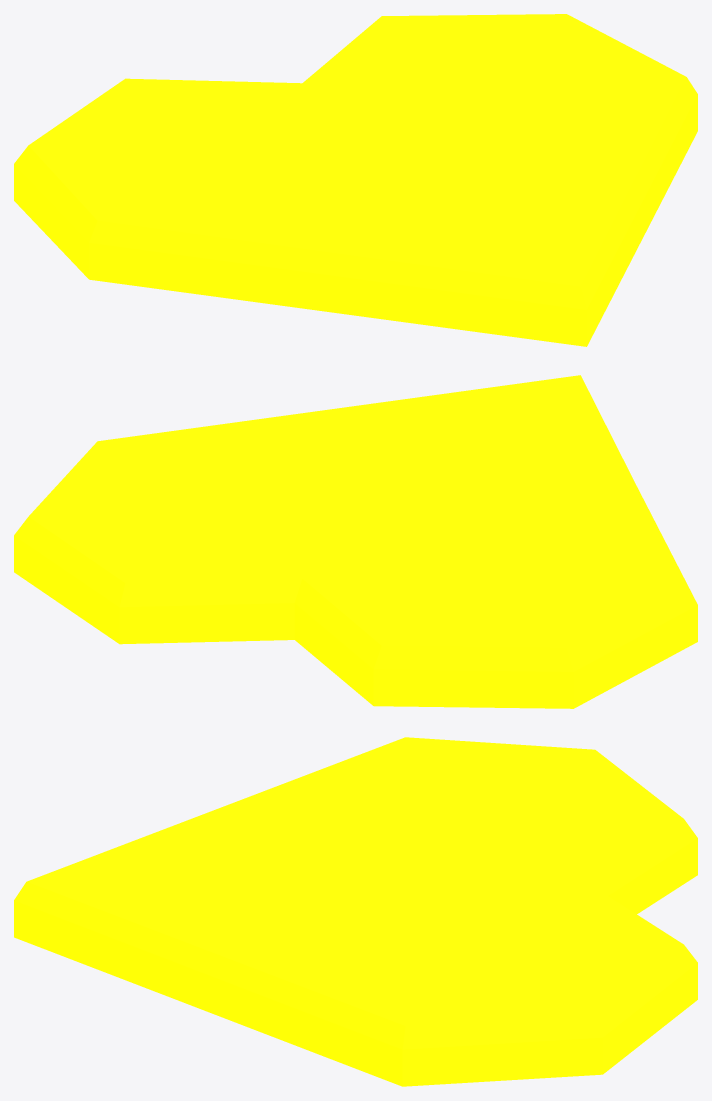
File: gingerbread-heart-b.glb
The picture shows the model from 3 angles, top to bottom: view 1: azimuth 30°, elevation 25°; view 2: azimuth 150°, elevation 25°; view 3: azimuth 270°, elevation 25°; orthographic projection.
Parts seen in each view (by area): view 1: gingerbread_heart_b; view 2: gingerbread_heart_b; view 3: gingerbread_heart_b.
Part boxes in pixels (<box>): gingerbread_heart_b: <box>14,14,697,346</box>; gingerbread_heart_b: <box>14,375,697,708</box>; gingerbread_heart_b: <box>14,737,697,1086</box>.
Size of the model in its own units: 0.0595 by 0.00519 by 0.0577.
Materials: 1 (1 with a texture image).
